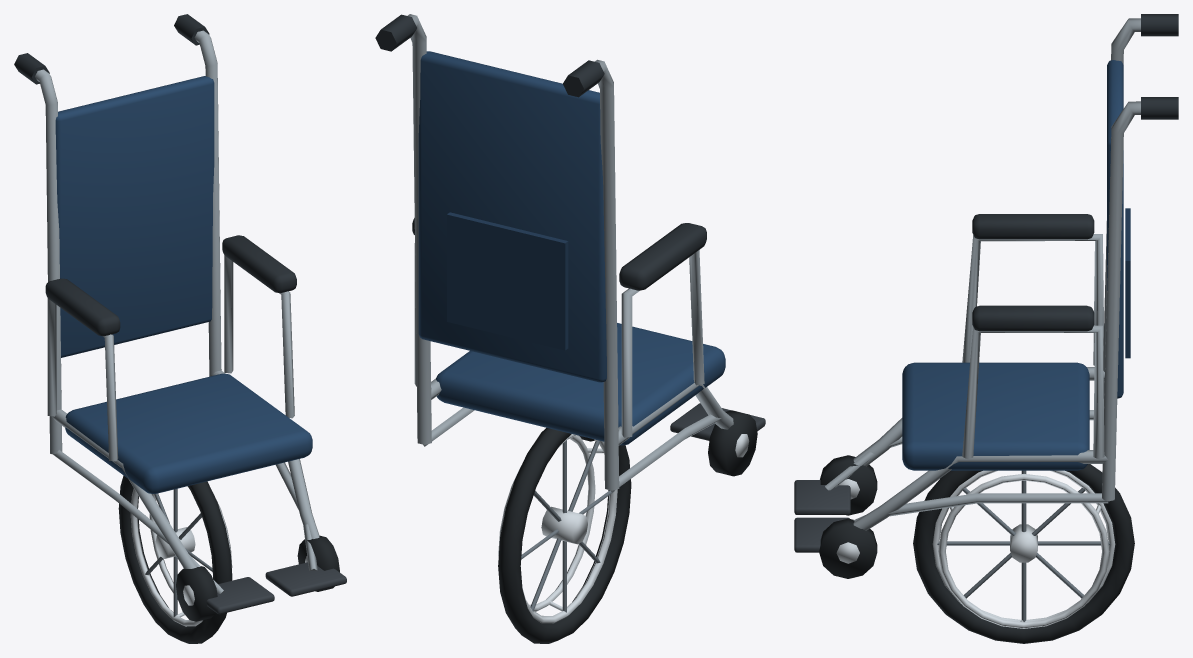
Rendered from wheelchair.glb.
3 renders of one model, left to right at view 1: azimuth 30°, elevation 25°; view 2: azimuth 150°, elevation 25°; view 3: azimuth 270°, elevation 25°, orthographic. The views are drawn at different scales.
Parts seen in each view (by area): view 1: Frame, Seat, Wheel; view 2: Frame, Seat, Wheel; view 3: Frame, Seat, Wheel.
Boxes of the visible parts, x1,y1,x2,y2 form: Frame: (14, 14, 346, 621); Seat: (65, 373, 312, 493); Wheel: (118, 475, 232, 643); Frame: (375, 14, 765, 492); Seat: (436, 323, 725, 445); Wheel: (498, 427, 631, 643); Frame: (794, 14, 1178, 578); Seat: (902, 362, 1089, 470); Wheel: (913, 464, 1134, 643).
Size of the model in its own units: 0.524 by 1.38 by 0.82.
